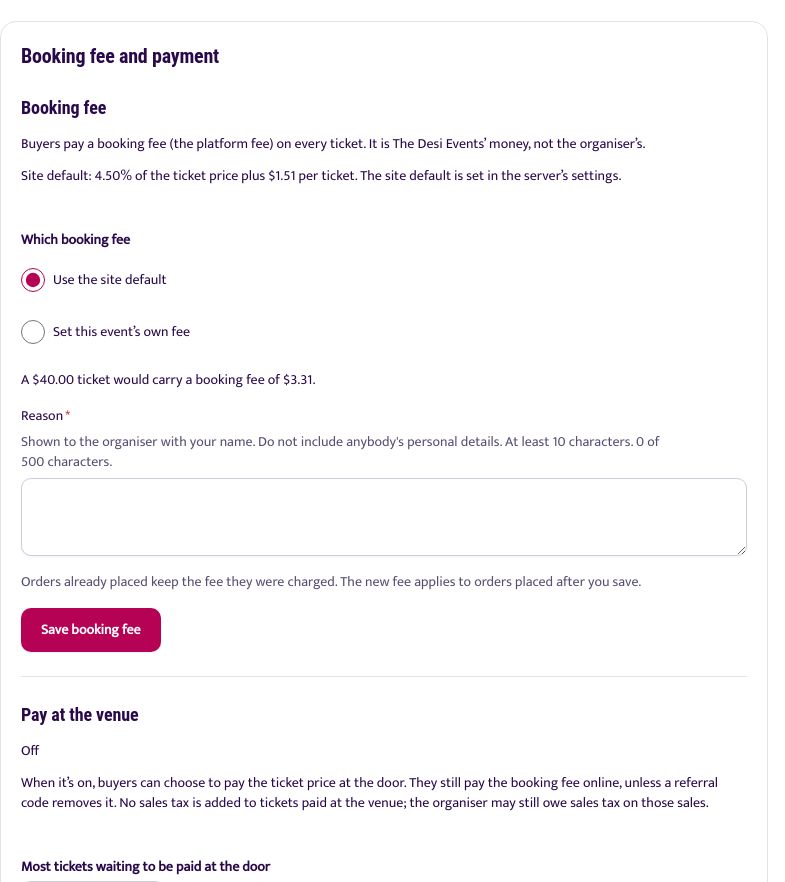
Test: the booking fee › sends the waiting write once more when the prompt is confirmed by click, and says one outcome
Type "Agreed with the organiser for this launch." into the text box labelled "Reason*" at (384, 517), box [21, 478, 747, 556]
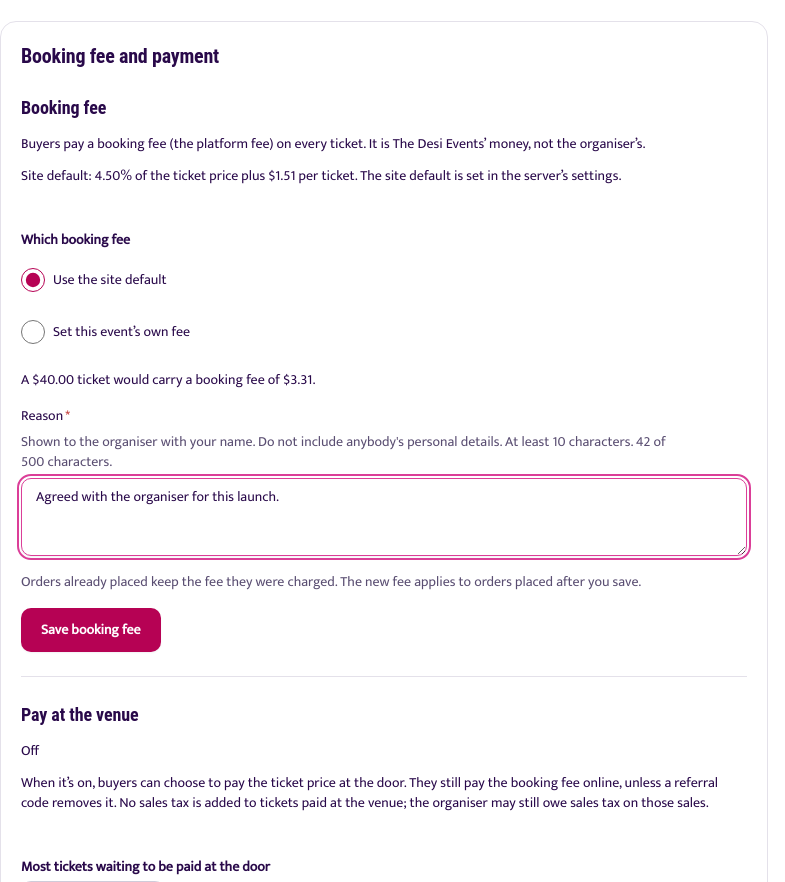
Click the button "Save booking fee" at (91, 630), box [21, 608, 161, 652]
(page scrolled)
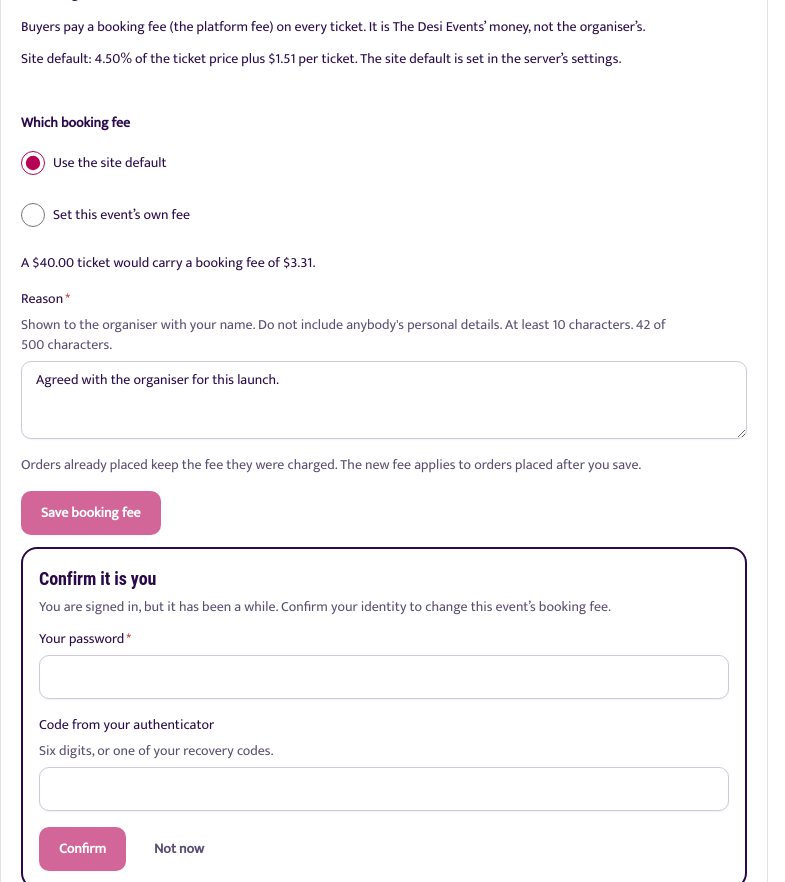
Now the button "Save booking fee" is disabled, box [21, 491, 161, 535]
Type "correct horse" into the password field labelled "Your password*" at (384, 677), box [39, 655, 729, 699]
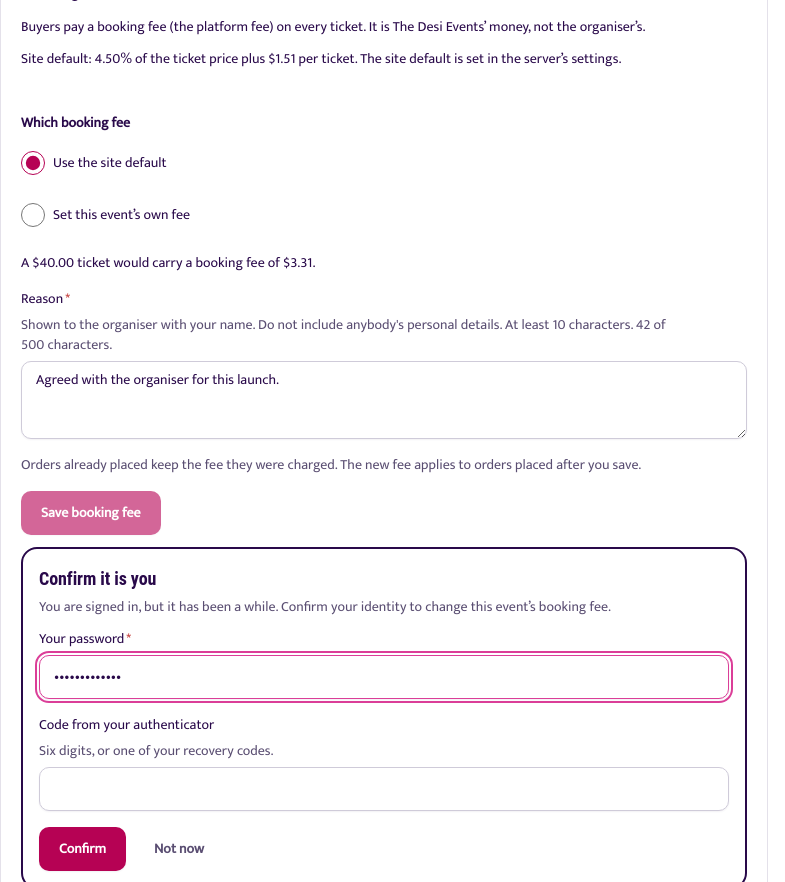
Click the button "Confirm" at (82, 849), box [39, 827, 126, 871]
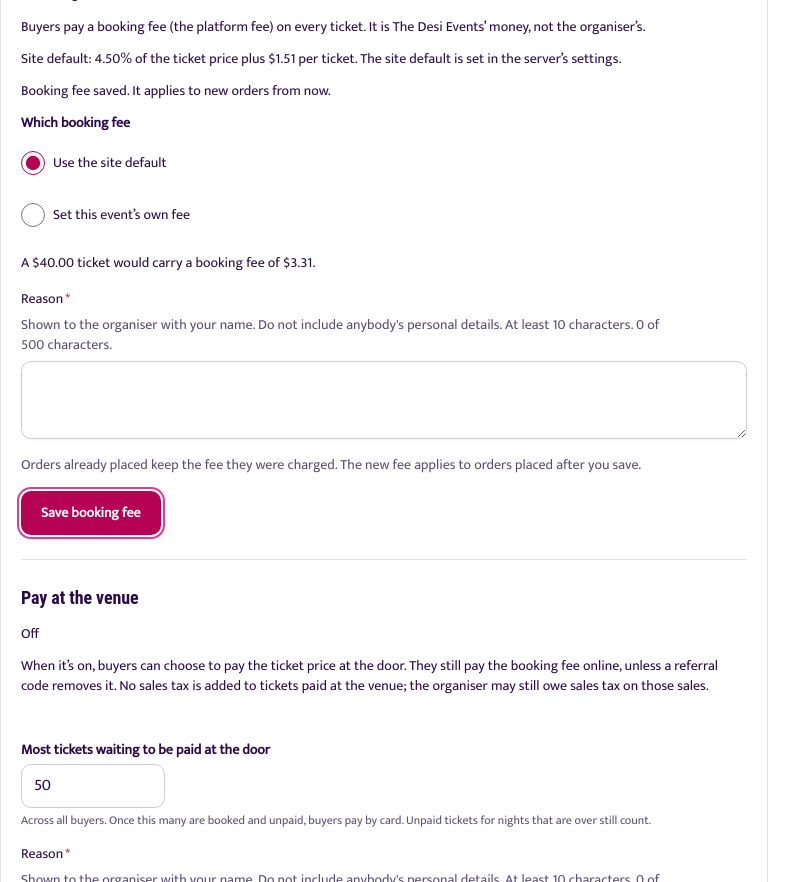
Now the text "Booking fee saved. It applies to new orders from now." is shown, box [21, 79, 331, 102]
